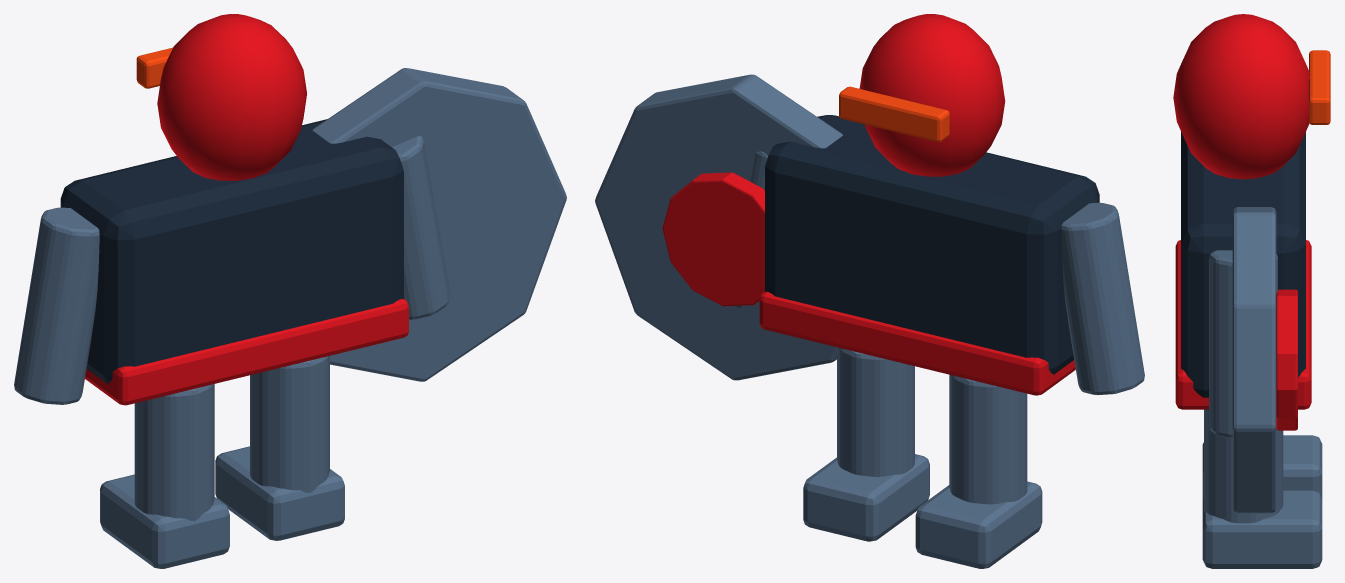
Rendered from training_warden.obj.
3 views of the same model, side by side, from view 1: azimuth 30°, elevation 25°; view 2: azimuth 150°, elevation 25°; view 3: azimuth 270°, elevation 25° (orthographic). The views are drawn at different scales.
Visible parts, largest first — view 1: warden_torso_M_gunmetal, warden_shield_M_steel, warden_head_M_red, warden_arm_r_M_steel, warden_belt_M_red, warden_leg_r_M_steel, warden_leg_l_M_steel, warden_boot_r_M_steel, warden_boot_l_M_steel, warden_arm_l_M_steel, warden_visor_M_orange; view 2: warden_torso_M_gunmetal, warden_shield_M_steel, warden_head_M_red, warden_arm_r_M_steel, warden_shield_badge_M_red, warden_belt_M_red, warden_leg_r_M_steel, warden_leg_l_M_steel, warden_boot_r_M_steel, warden_boot_l_M_steel, warden_visor_M_orange; view 3: warden_head_M_red, warden_torso_M_gunmetal, warden_shield_M_steel, warden_boot_l_M_steel, warden_arm_l_M_steel, warden_leg_l_M_steel, warden_shield_badge_M_red, warden_belt_M_red, warden_boot_r_M_steel, warden_visor_M_orange.
Boxes of the visible parts, x1,y1,x2,y2 form: warden_torso_M_gunmetal: (60, 119, 403, 383); warden_shield_M_steel: (312, 68, 566, 381); warden_head_M_red: (157, 14, 306, 180); warden_arm_r_M_steel: (14, 207, 99, 404); warden_belt_M_red: (85, 299, 408, 405); warden_leg_r_M_steel: (134, 384, 214, 521); warden_leg_l_M_steel: (250, 356, 329, 492); warden_boot_r_M_steel: (100, 474, 229, 568); warden_boot_l_M_steel: (215, 446, 344, 540); warden_arm_l_M_steel: (392, 136, 450, 319); warden_visor_M_orange: (136, 47, 172, 88); warden_torso_M_gunmetal: (765, 115, 1099, 374); warden_shield_M_steel: (595, 74, 842, 380); warden_head_M_red: (859, 14, 1005, 176); warden_arm_r_M_steel: (1061, 202, 1144, 395); warden_shield_badge_M_red: (662, 172, 764, 306); warden_belt_M_red: (759, 291, 1075, 395); warden_leg_r_M_steel: (949, 374, 1027, 504); warden_leg_l_M_steel: (837, 348, 914, 476); warden_boot_r_M_steel: (915, 481, 1042, 568); warden_boot_l_M_steel: (803, 454, 929, 541); warden_visor_M_orange: (839, 86, 949, 142); warden_head_M_red: (1173, 14, 1310, 179); warden_torso_M_gunmetal: (1181, 132, 1305, 397); warden_shield_M_steel: (1232, 207, 1276, 513); warden_boot_l_M_steel: (1202, 490, 1322, 568); warden_arm_l_M_steel: (1209, 250, 1277, 438); warden_leg_l_M_steel: (1204, 409, 1283, 523); warden_shield_badge_M_red: (1276, 289, 1297, 430); warden_belt_M_red: (1175, 240, 1311, 409); warden_boot_r_M_steel: (1202, 435, 1322, 499); warden_visor_M_orange: (1309, 50, 1330, 124).
Bounding box in the file's own units: 1.13 × 1.03 × 0.289.
